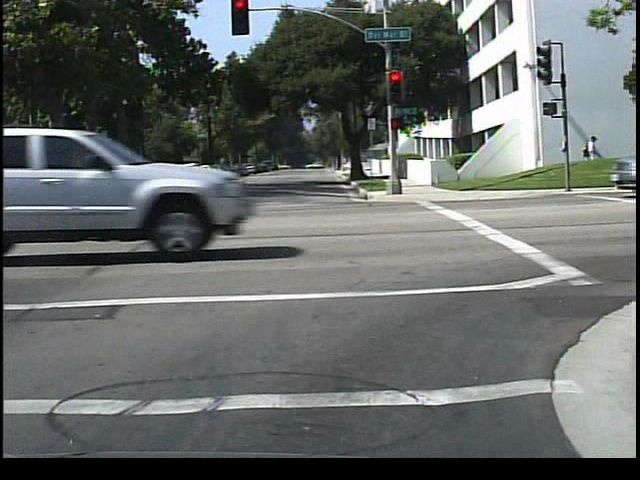person: (580, 128, 604, 183)
